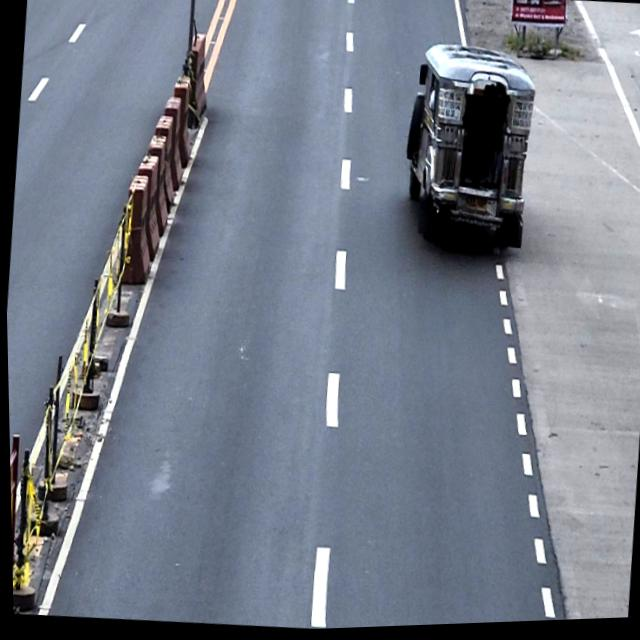Jeep: (394, 38, 541, 257)
License-Plate: (462, 196, 488, 218)
